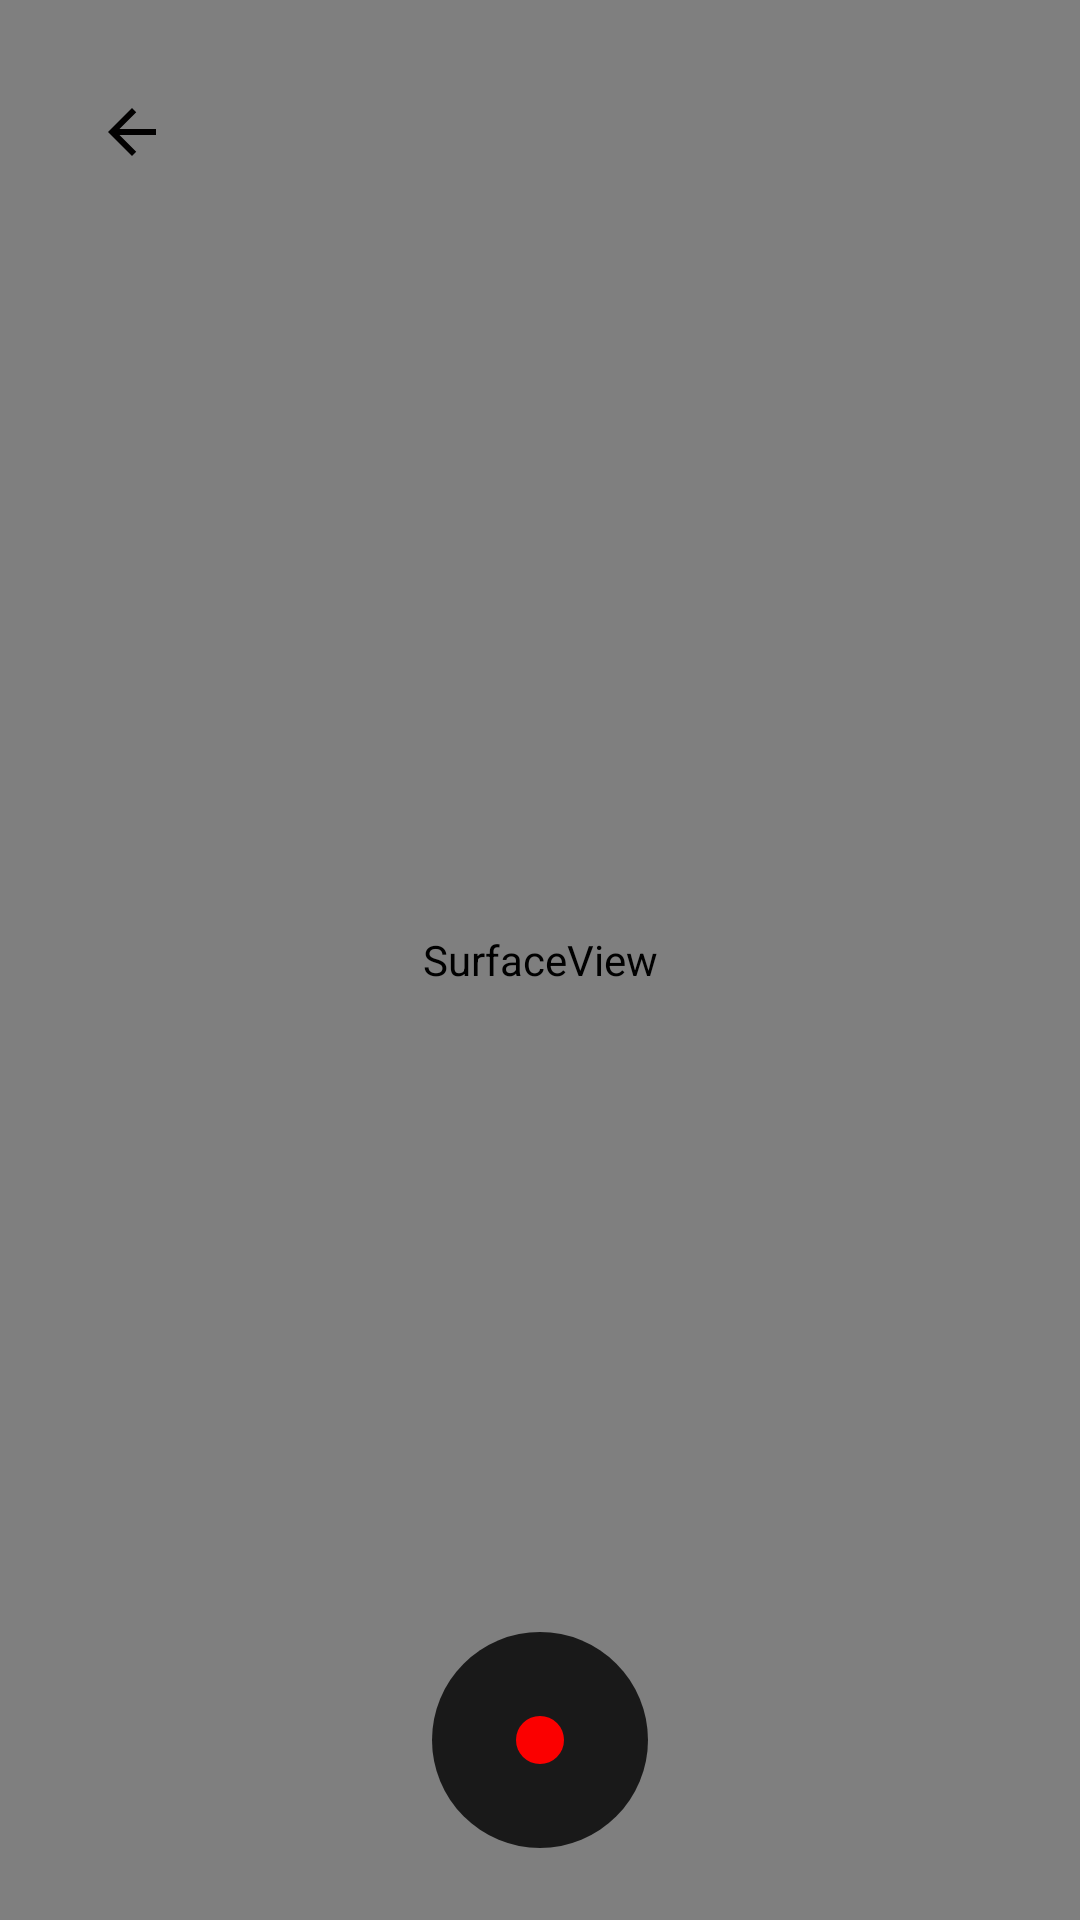

Icon bounding boxes for this 1080×1920 phone screenshot, format (x1, y1, x2, y2):
Back: (108, 108, 156, 156)
Record: (432, 1632, 648, 1848)
